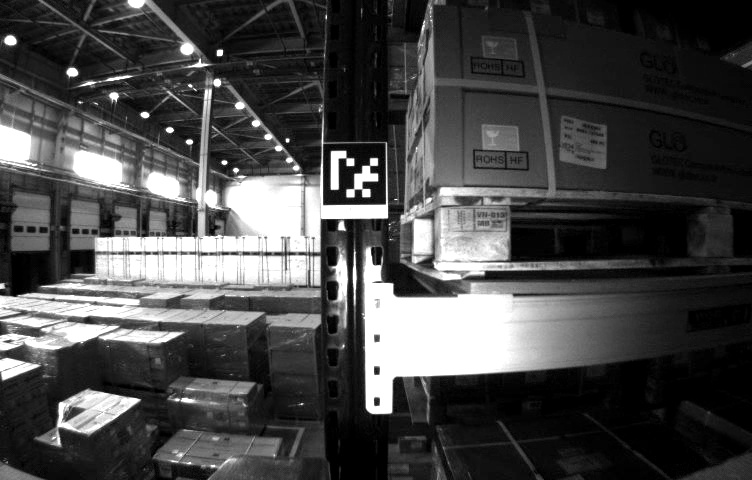True Barcode: (559, 115, 611, 173)
